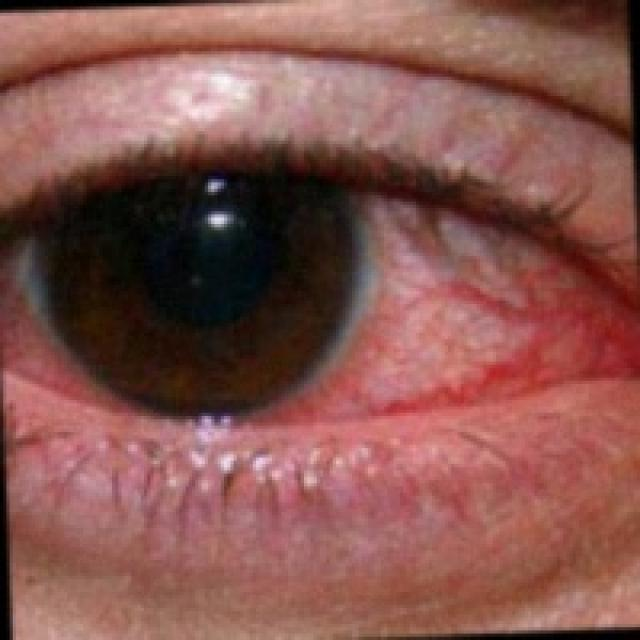Keratitis: (0, 155, 603, 461)
